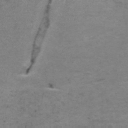finishing roll printing: (25, 0, 53, 75)
